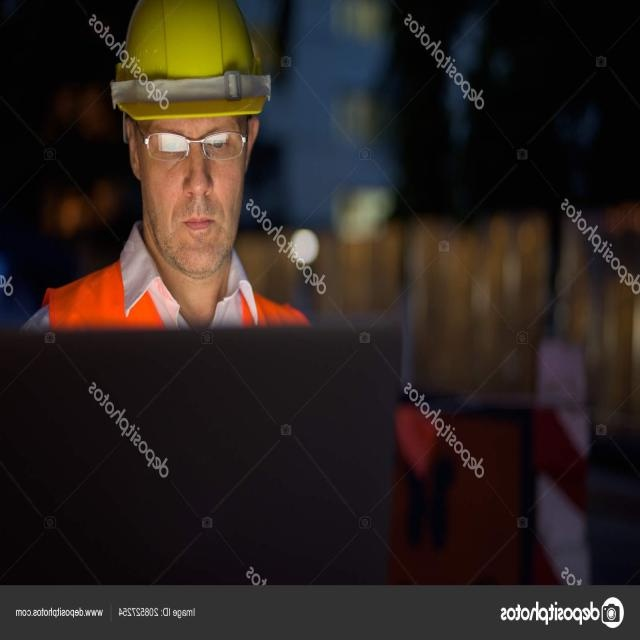Con_Casco: (112, 2, 267, 269)
